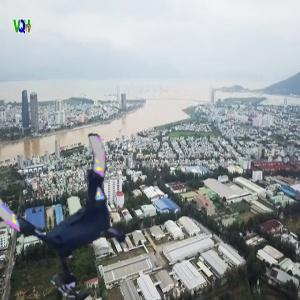drone: (6, 139, 148, 281)
